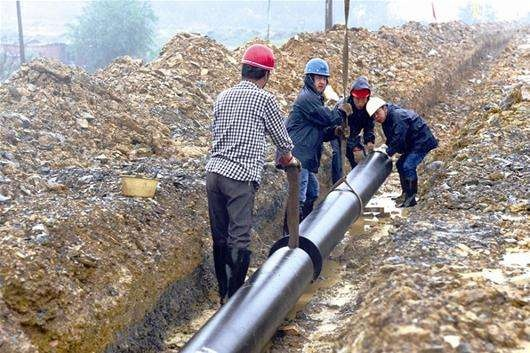blue: (302, 57, 330, 93)
red: (236, 42, 276, 89), (349, 83, 371, 110)
white: (364, 95, 389, 125)
